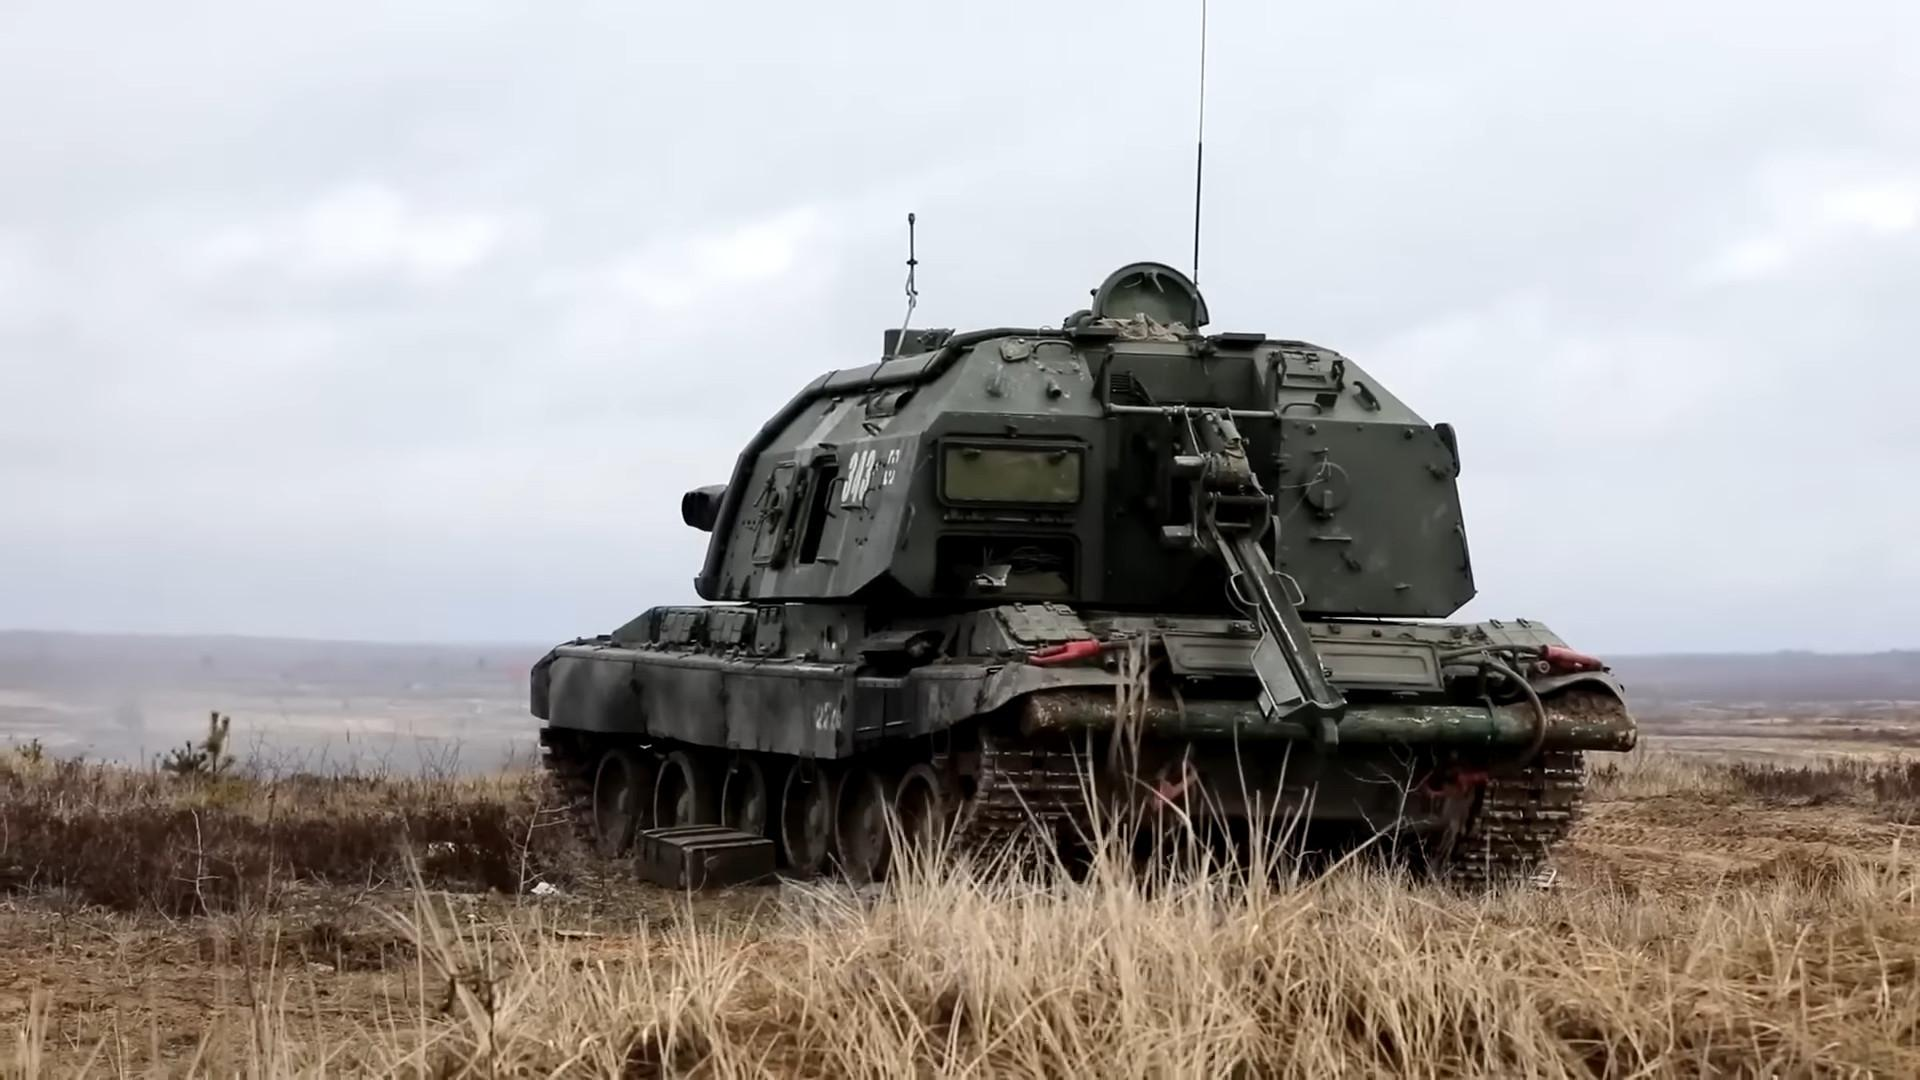tank: (522, 0, 1642, 895)
